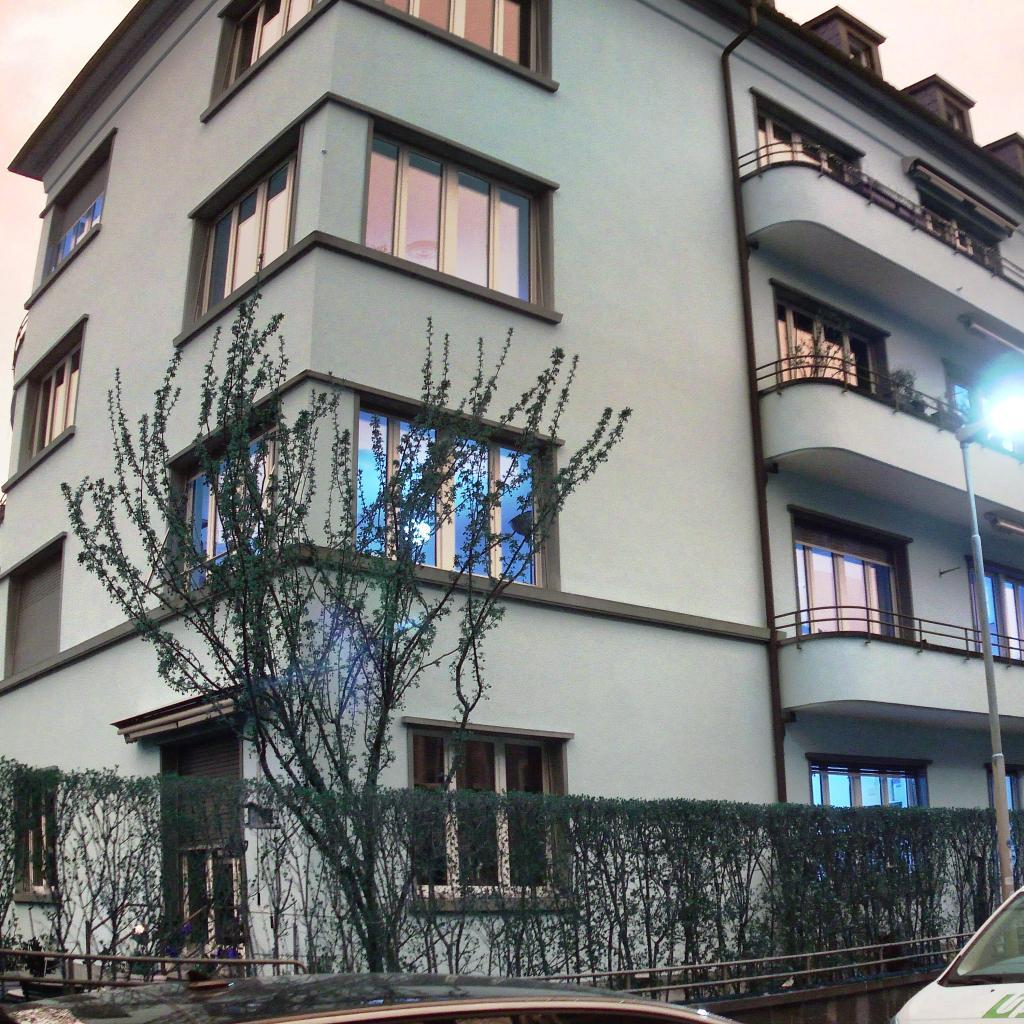balcony-fence: (735, 143, 1024, 287), (753, 356, 1024, 447), (776, 605, 981, 644), (993, 633, 1024, 653)
car: (0, 971, 752, 1024), (894, 883, 1024, 1024)
facade: (0, 11, 1024, 818)
fence: (539, 935, 974, 1023), (0, 951, 311, 1003)
traffic-infrastructure: (958, 416, 1018, 903)
vegetation: (0, 283, 1002, 977)
window: (356, 410, 536, 586), (365, 138, 532, 300), (411, 731, 562, 901), (160, 727, 251, 955), (187, 428, 280, 592), (204, 160, 292, 316), (779, 303, 875, 391), (228, 0, 322, 87), (757, 113, 863, 185), (793, 541, 892, 610), (922, 191, 1002, 269), (13, 551, 63, 674), (54, 161, 108, 269), (33, 342, 82, 456), (813, 766, 928, 806), (958, 382, 1015, 448), (986, 572, 1024, 638), (801, 623, 900, 637), (1008, 766, 1024, 806), (946, 103, 967, 132), (850, 37, 868, 68)
